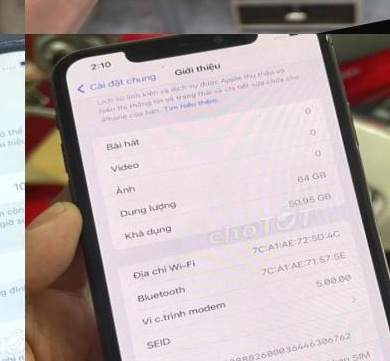scratch: (0, 34, 25, 77)
